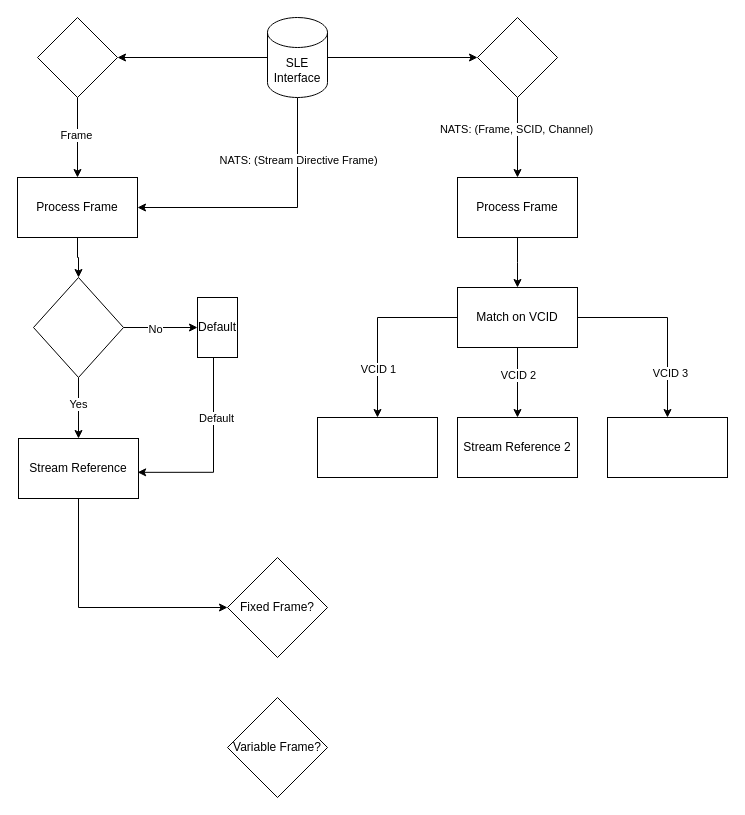
The diagram is 745 pixels wide and 815 high, and some of its shapes have lost their labels. Each missing label, with the box of its shape:
RAF: (36, 16, 118, 98)
RCF: (476, 16, 558, 98)
Stream Directive?: (32, 276, 124, 378)
Stream Reference 1: (316, 416, 438, 478)
Stream Reference 3: (606, 416, 728, 478)
